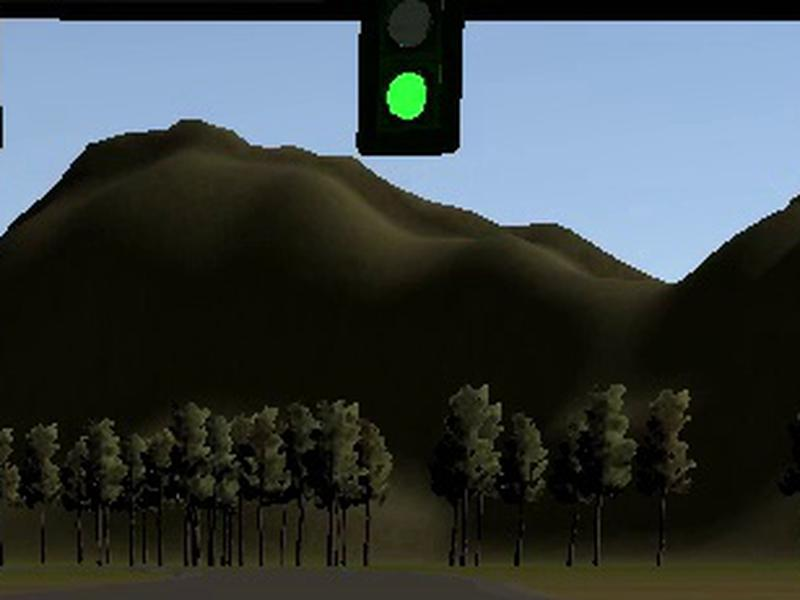Green: (354, 1, 466, 156)
